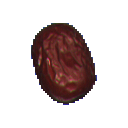gd: (20, 18, 110, 112)
